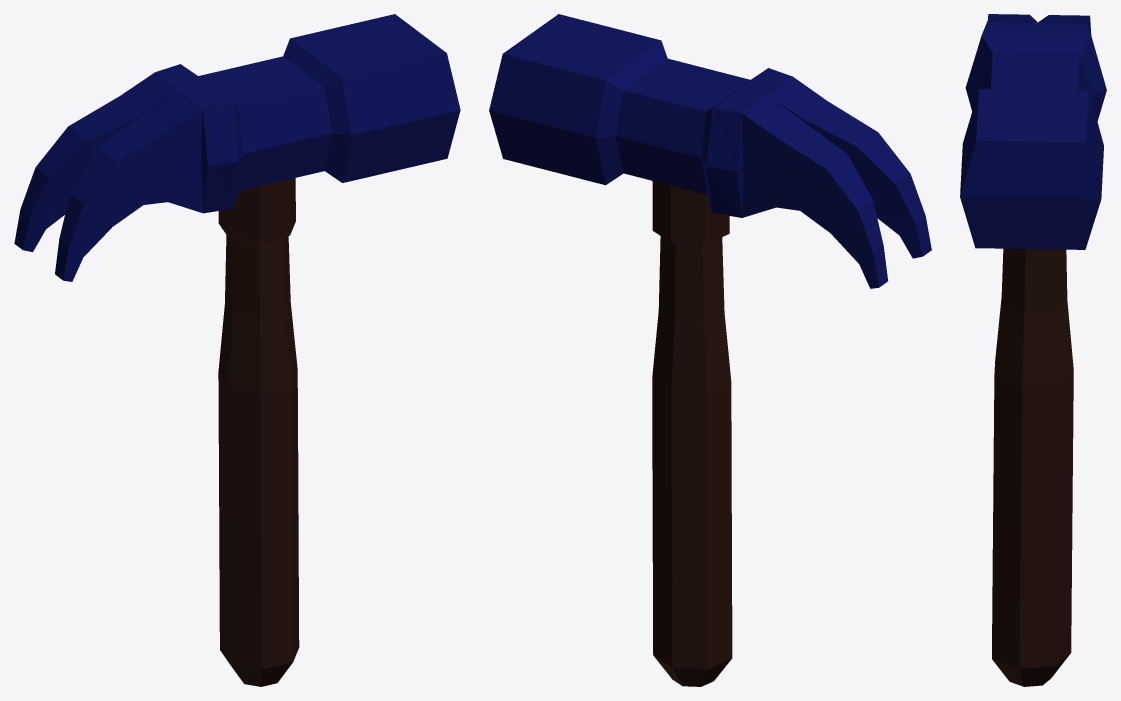
The model's file is Hammer.FBX.
3 views of the same model, side by side, from view 1: azimuth 30°, elevation 25°; view 2: azimuth 150°, elevation 25°; view 3: azimuth 270°, elevation 25° (orthographic). The views are drawn at different scales.
Parts seen in each view (by area): view 1: repairs1; view 2: repairs1; view 3: repairs1.
Part boxes in pixels (box(x1,y1,x2,y2)): repairs1: box(14, 14, 460, 686); repairs1: box(489, 14, 931, 686); repairs1: box(960, 14, 1106, 686).
Bounding box in the file's own units: 1.03 × 1.54 × 0.3321.
